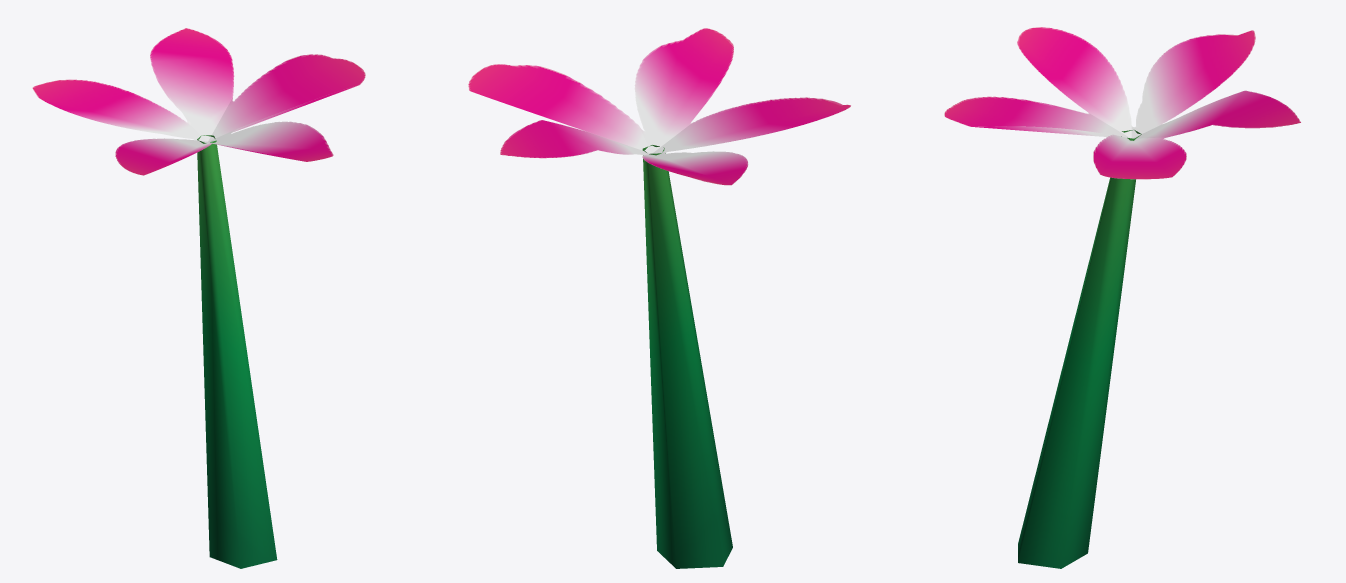
Rendered from SM_Flower5(Fix).fbx.
3 renders of one model, left to right at view 1: azimuth 30°, elevation 25°; view 2: azimuth 150°, elevation 25°; view 3: azimuth 270°, elevation 25°, orthographic. The views are drawn at different scales.
Parts seen in each view (by area): view 1: Flower_Mash5; view 2: Flower_Mash5; view 3: Flower_Mash5.
Boxes of the visible parts, box(x1,y1,x2,y2) form: Flower_Mash5: box(32, 28, 365, 568); Flower_Mash5: box(468, 28, 850, 568); Flower_Mash5: box(944, 27, 1300, 568).
Bounding box in the file's own units: 0.0824 × 0.1029 × 0.0824.
